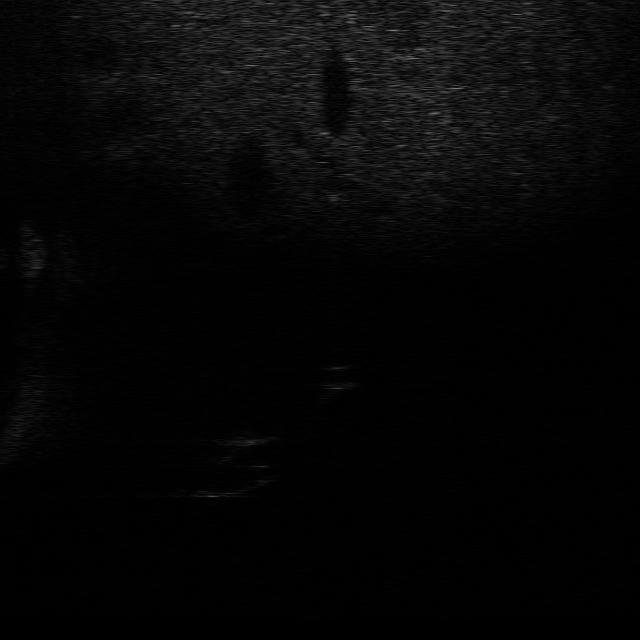ball: (296, 356, 365, 396)
square cage: (198, 421, 278, 454)
tyre: (184, 460, 276, 500)
